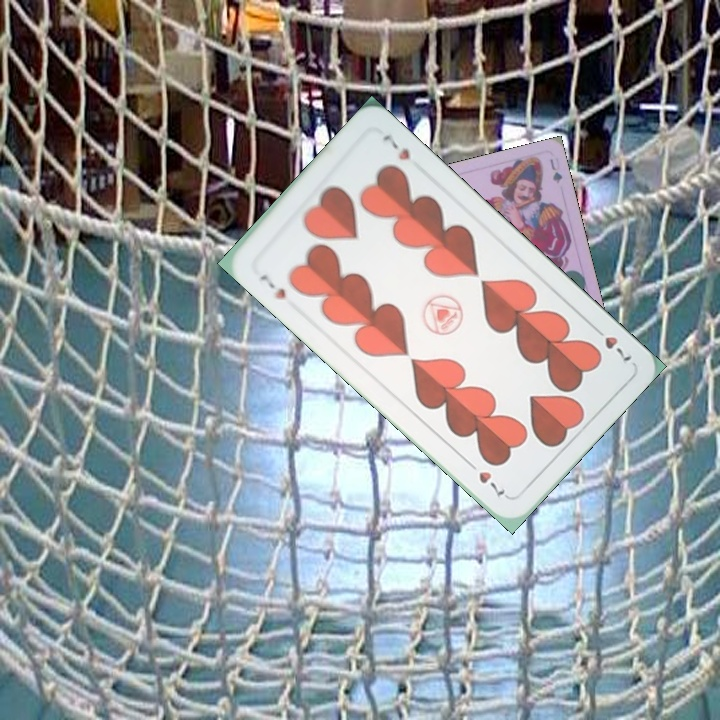H7: (587, 321, 635, 364), (255, 269, 289, 303)
